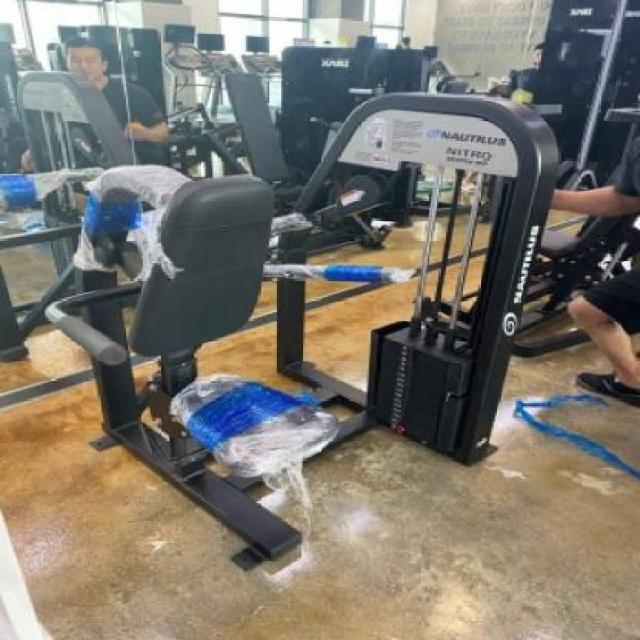seated dip machine: (51, 94, 560, 574)
